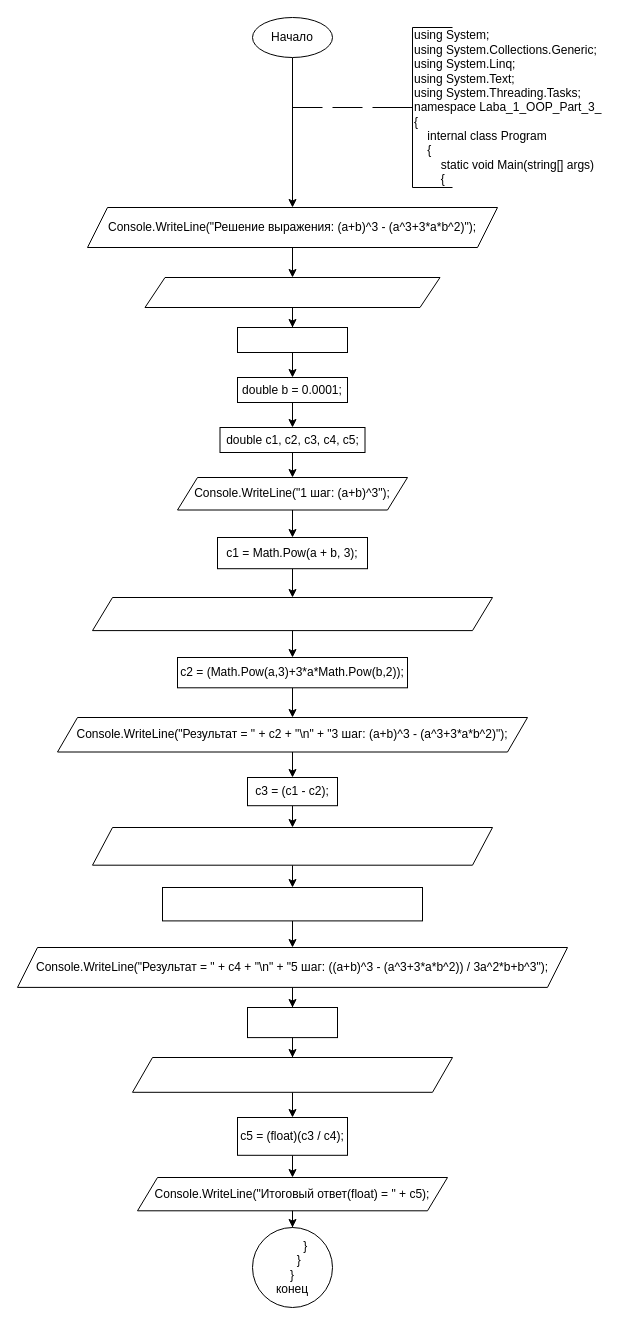
This 640x1325 diagram has some shape labels left out. Each missing label, with the box of its shape:
c4 = (3 * Math.Pow(a, 2) * b + Math.Pow(b, 3));: (162, 886, 422, 921)
c5 = (c3/c4);: (246, 1006, 338, 1038)
Console.WriteLine(" 3a^2*b+b^3");: (144, 276, 440, 308)
Console.WriteLine("Итоговый ответ(double) = " + c5);: (132, 1056, 452, 1092)
Console.WriteLine("Результат = " + c3 + "\n" + "4 шаг: 3a^2*b+b^3");: (92, 826, 492, 865)
Console.WriteLine("Результат = "+c1 + "\n" + "2 шаг: a^3+3*a*b^2");: (92, 596, 492, 631)
float a = 1000;: (236, 326, 348, 352)
